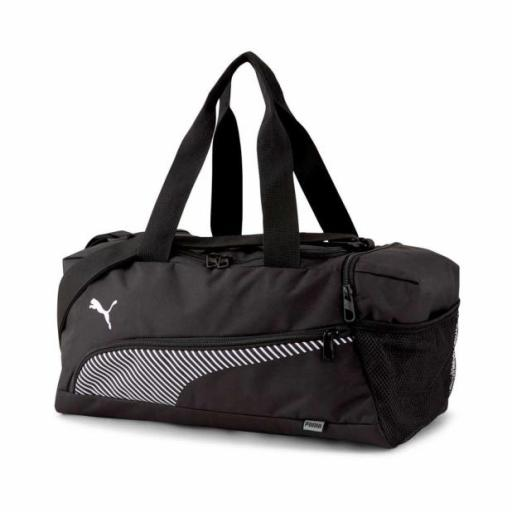Puma: (86, 294, 120, 333), (301, 417, 327, 435)
